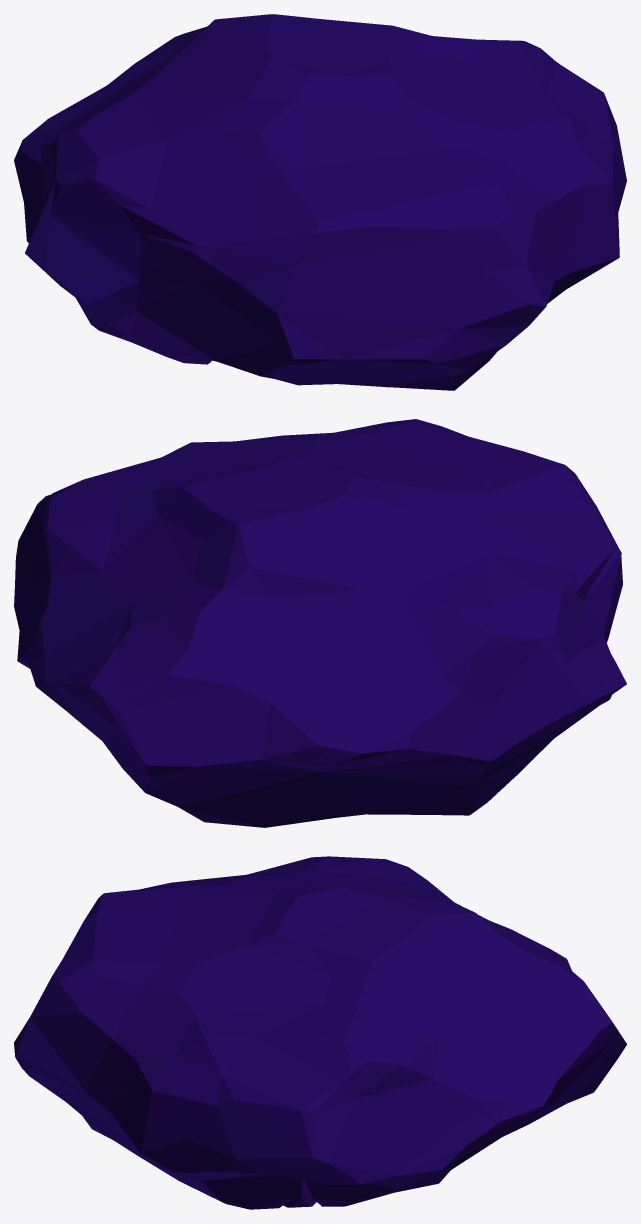
The model's file is matlab.glb.
The picture shows the model from 3 angles, top to bottom: view 1: azimuth 30°, elevation 25°; view 2: azimuth 150°, elevation 25°; view 3: azimuth 270°, elevation 25°; orthographic projection. The views are drawn at different scales.
Visible parts, largest first — view 1: Cube.007; view 2: Cube.007; view 3: Cube.007.
Boxes of the visible parts, left/top/right/bottom form: Cube.007: left=14, top=14, right=626, bottom=390; Cube.007: left=14, top=419, right=626, bottom=827; Cube.007: left=14, top=856, right=626, bottom=1209.
Size of the model in its own units: 2 by 0.9263 by 2.04.
